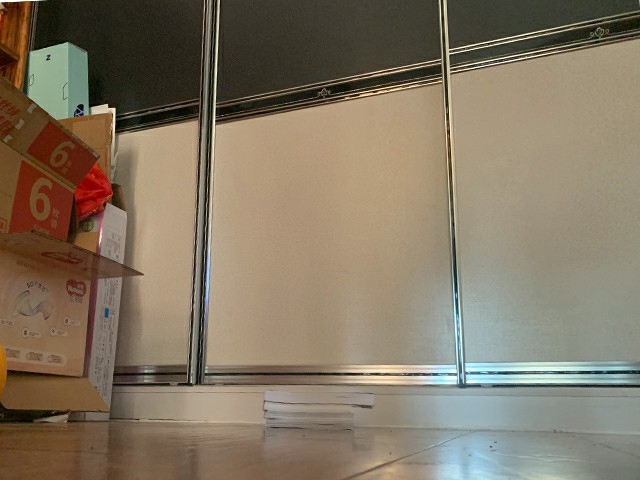book: (261, 388, 375, 434)
cabinet: (203, 22, 640, 434)
